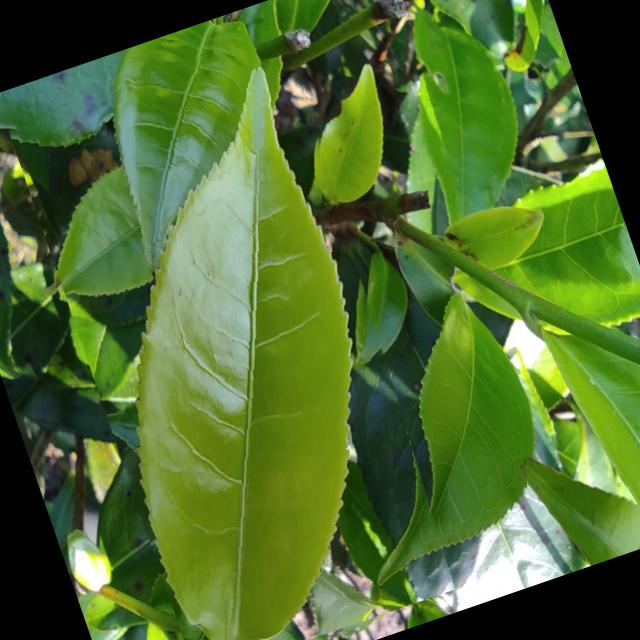Category B(2-4 days): (4, 23, 475, 640)
